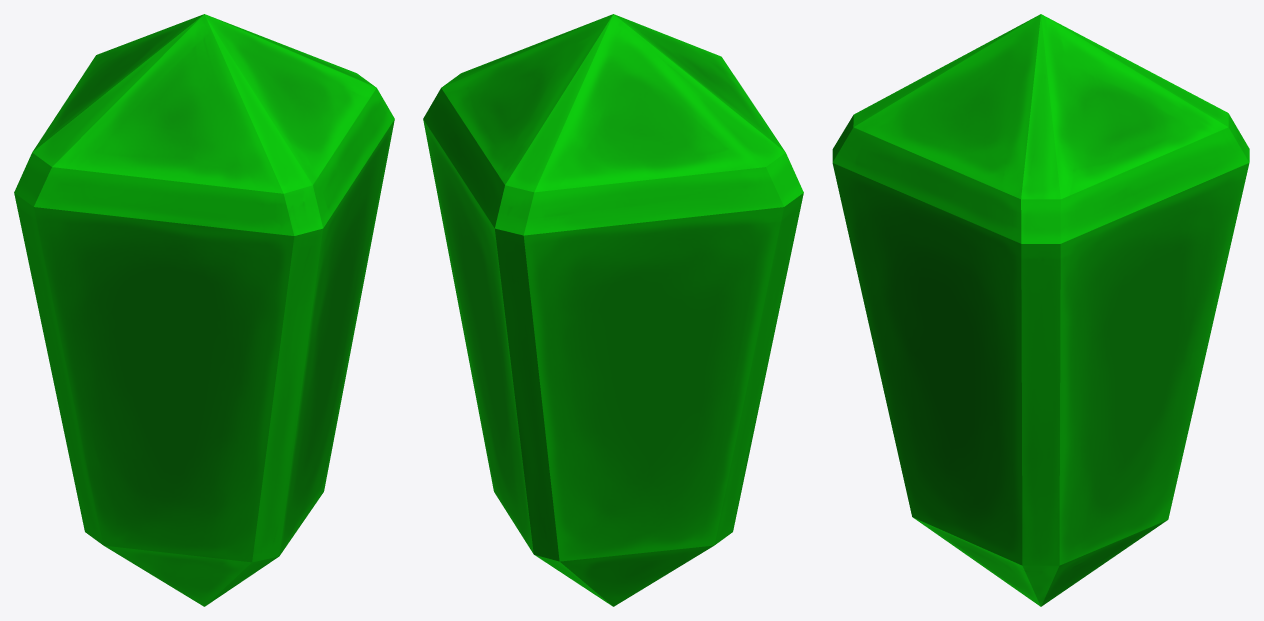
File: GemPy.fbx
3 views of the same model, side by side, from view 1: azimuth 30°, elevation 25°; view 2: azimuth 150°, elevation 25°; view 3: azimuth 270°, elevation 25° (orthographic).
Parts seen in each view (by area): view 1: GemPy; view 2: GemPy; view 3: GemPy.
Boxes of the visible parts, box(x1,y1,x2,y2) form: GemPy: box(14, 14, 394, 606); GemPy: box(423, 14, 803, 606); GemPy: box(832, 14, 1249, 606).
Bounding box in the file's own units: 78.69 × 123 × 78.69.
Materials: 1 (1 with a texture image).
